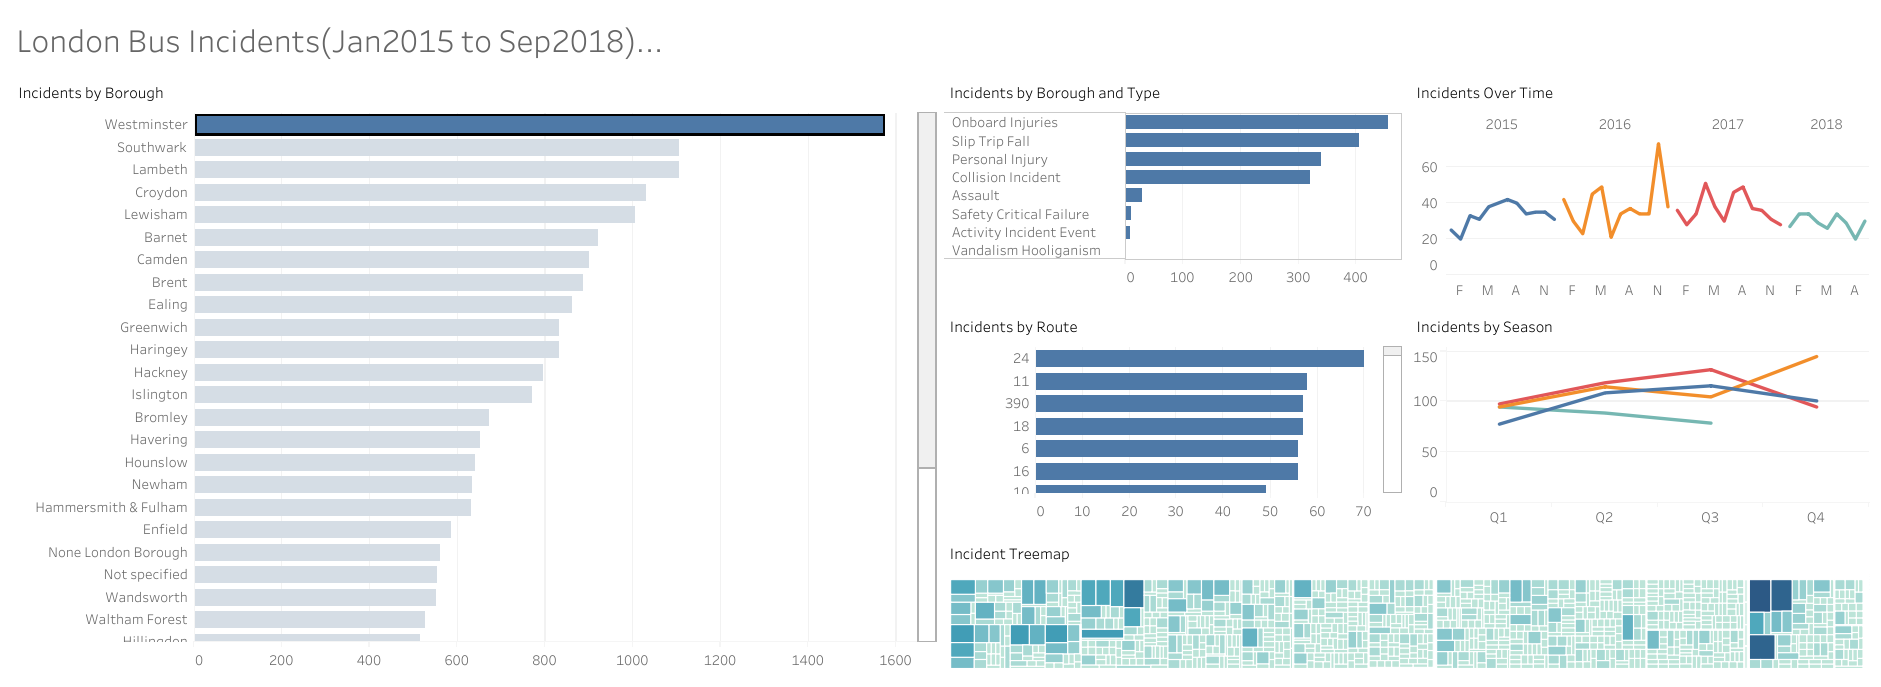

The dashboard page shown, as its layout file describes it:
{"tool":"tableau","page":{"name":"Dashboard 1","canvas":[1000,1000],"units":"permille","ordinal":0},"visuals":[{"type":"text","box":[4.7,9.4,990.5,89.3]},{"type":"worksheet","title":"Incidents by Borough","mark":"Automatic","rows":["Borough"],"cols":["Sheet1_126C3F157C604179A01F1C610D713AF5"],"box":[4.7,98.7,495.3,891.9]},{"type":"worksheet","title":"Incidents by Borough and Type","mark":"Automatic","rows":["Borough","Incident Event Type"],"cols":["Sheet1_126C3F157C604179A01F1C610D713AF5"],"box":[500,98.7,247.6,341.8]},{"type":"worksheet","title":"Incidents Over Time","mark":"Line","cols":["Date Of Incident","Date Of Incident"],"box":[747.6,98.7,247.6,341.8]},{"type":"worksheet","title":"Incidents by Route","mark":"Automatic","rows":["Route"],"cols":["Sheet1_126C3F157C604179A01F1C610D713AF5"],"box":[500,440.5,247.6,333.2]},{"type":"worksheet","title":"Incidents by Season","mark":"Automatic","cols":["Date Of Incident"],"box":[747.6,440.5,247.6,333.2]},{"type":"worksheet","title":"Incident Treemap","mark":"Automatic","box":[500,773.8,495.3,216.8]}]}

Visuals, with their boxes on the dashboard's canvas, which has no fixed pixel size, in thousandths of its width and height (x1, y1, x2, y2). These are canvas units, not pixel positions in the 1881x687 screenshot, which may show the page scaled, cropped or inside an application window:
text: rect(5, 9, 995, 99)
"Incidents by Borough" worksheet: rect(5, 99, 500, 991)
"Incidents by Borough and Type" worksheet: rect(500, 99, 748, 440)
"Incidents Over Time" worksheet (Line marks): rect(748, 99, 995, 440)
"Incidents by Route" worksheet: rect(500, 440, 748, 774)
"Incidents by Season" worksheet: rect(748, 440, 995, 774)
"Incident Treemap" worksheet: rect(500, 774, 995, 991)
